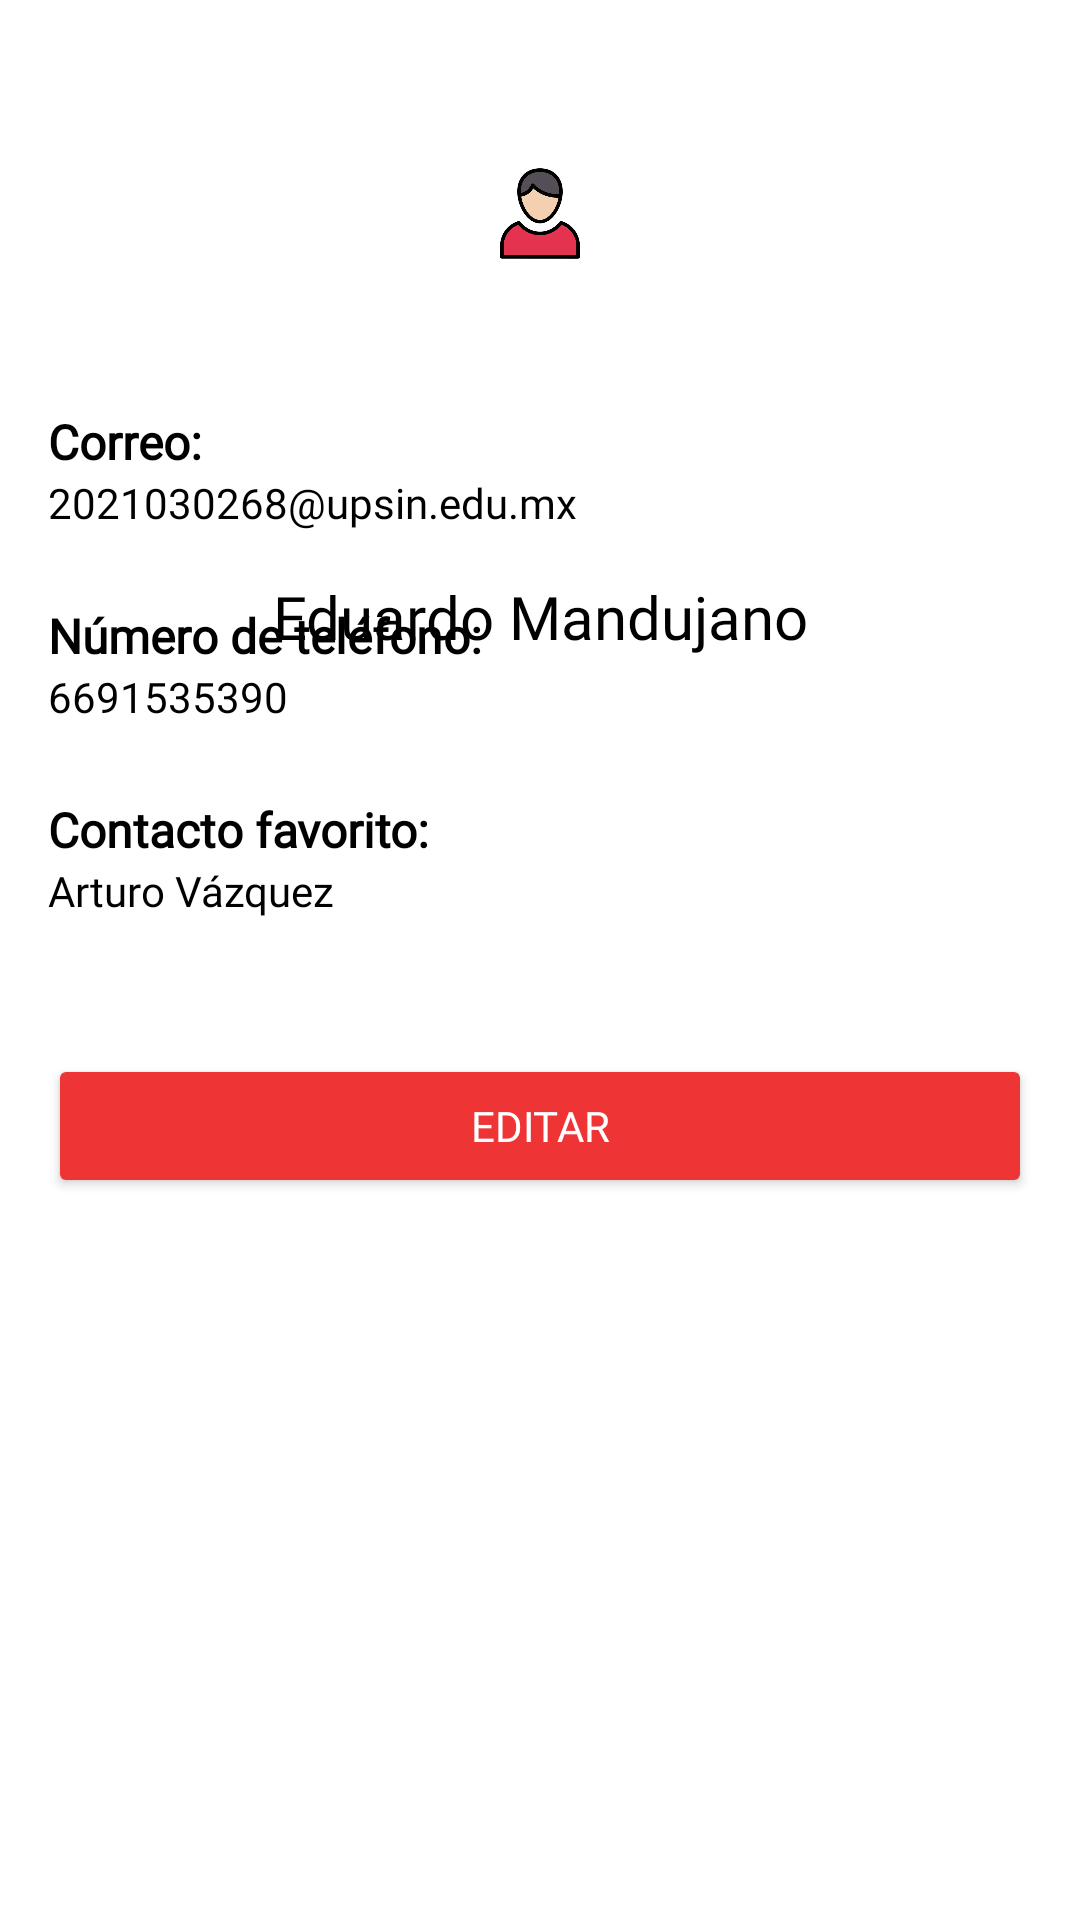

Named icons in this screenshot (1080 × 1920) and their centers, point (x, y):
profile: point (540, 213)
